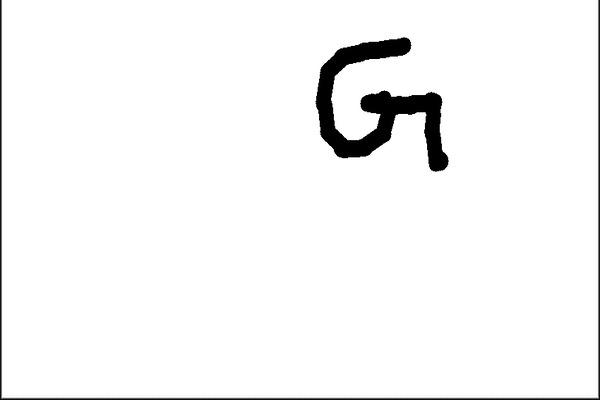G: (312, 34, 453, 173)
